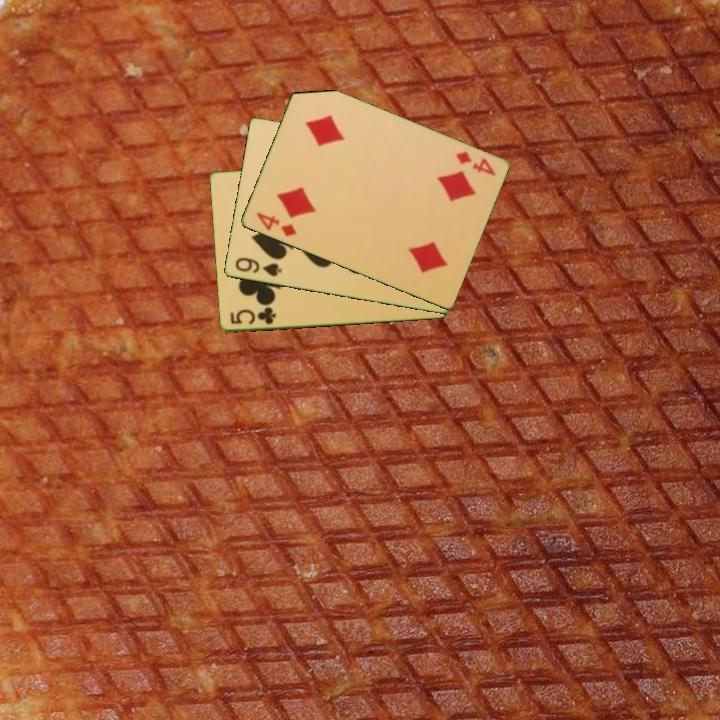4d: (252, 209, 299, 240), (451, 148, 498, 179)
5c: (226, 304, 278, 328)
9s: (231, 254, 284, 280)
